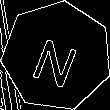N_N: (29, 25, 85, 87)
